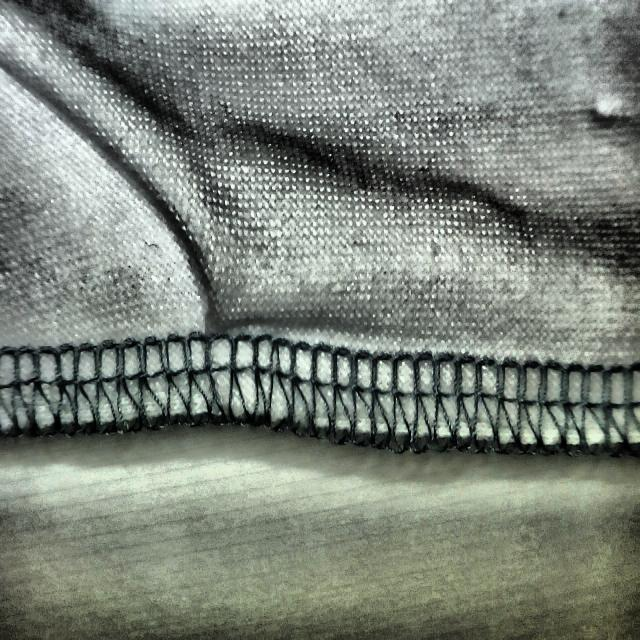seam: (152, 214, 316, 456)
